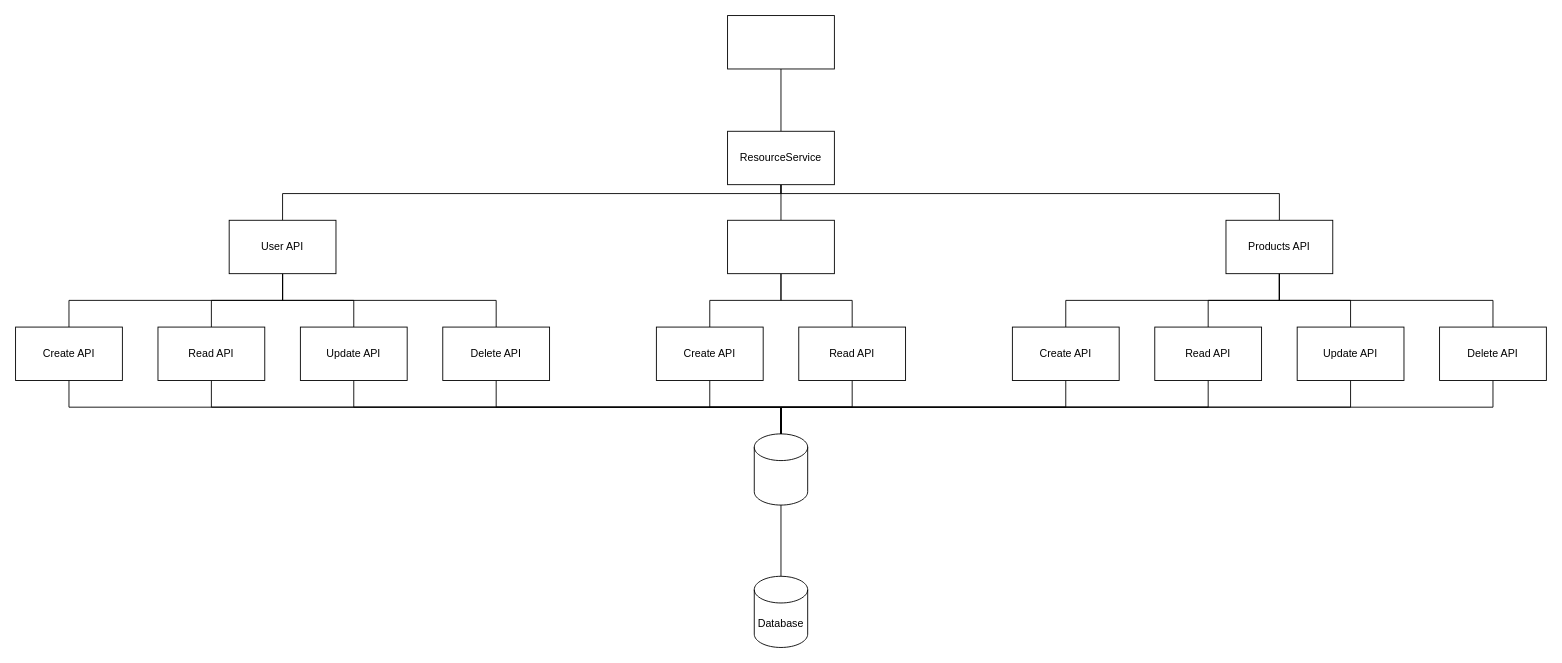
Image size: 1562x663. Some labels were removed from this diagram. Here are the shapes that lost their labels. From the top down, the centre of each, then its label:
the point at 780,42: ClientService
the point at 780,246: Order API
the point at 780,469: Cache
